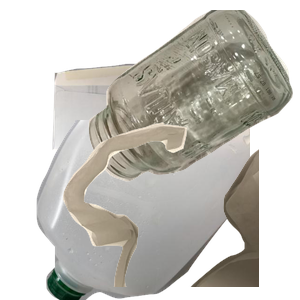glass: (86, 10, 300, 184)
paper: (50, 61, 257, 211)
plastic: (34, 120, 274, 300)
trash: (60, 120, 300, 300)
